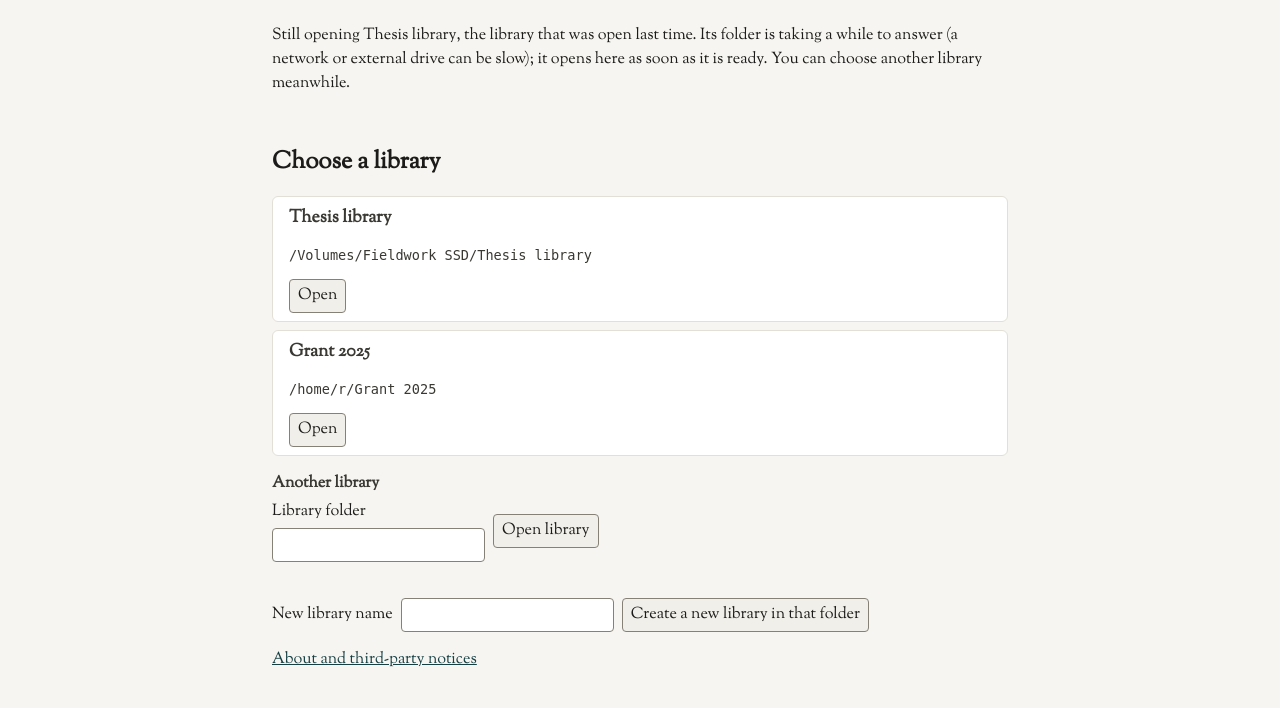
Test: library routes › I1: a library chosen while the last one is still being opened stays; a late answer of the check is dropped
The image size is (1280, 708).
Click the button with aria-label "Open Grant 2025".
click(318, 430)  # box [289,413,346,447]
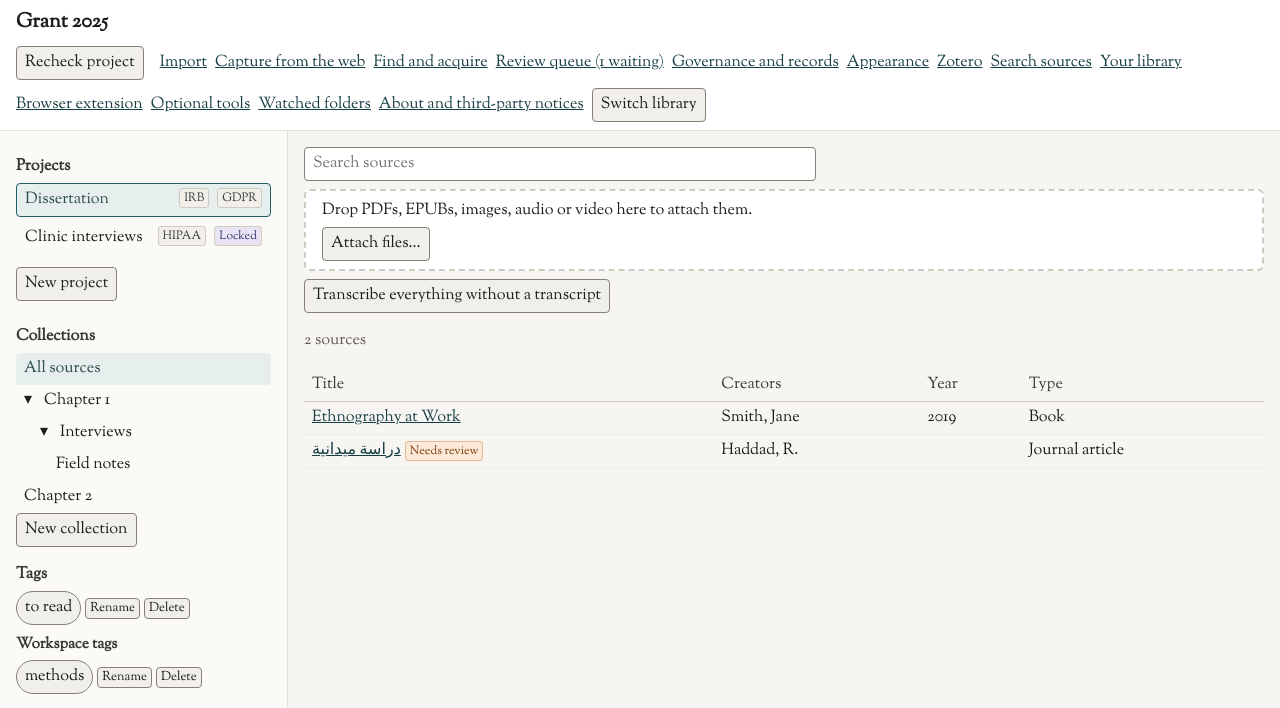
expect the heading "Grant 2025" is shown: met, box [16,8,108,38]
